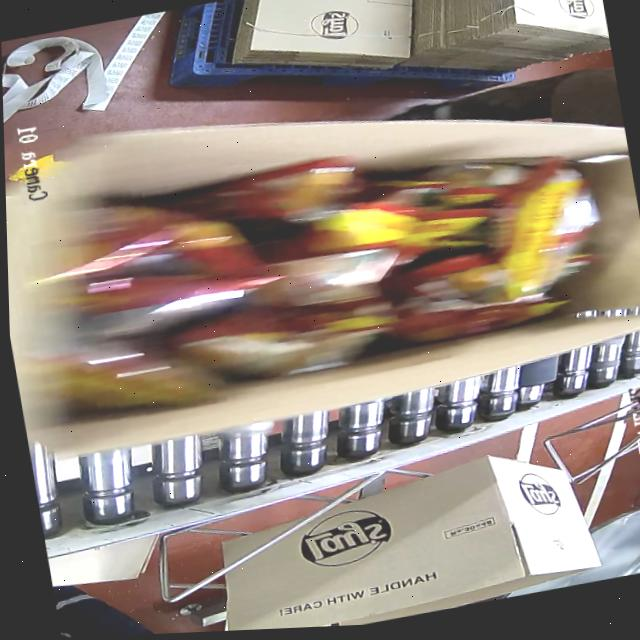MASALA: (14, 125, 599, 425)
